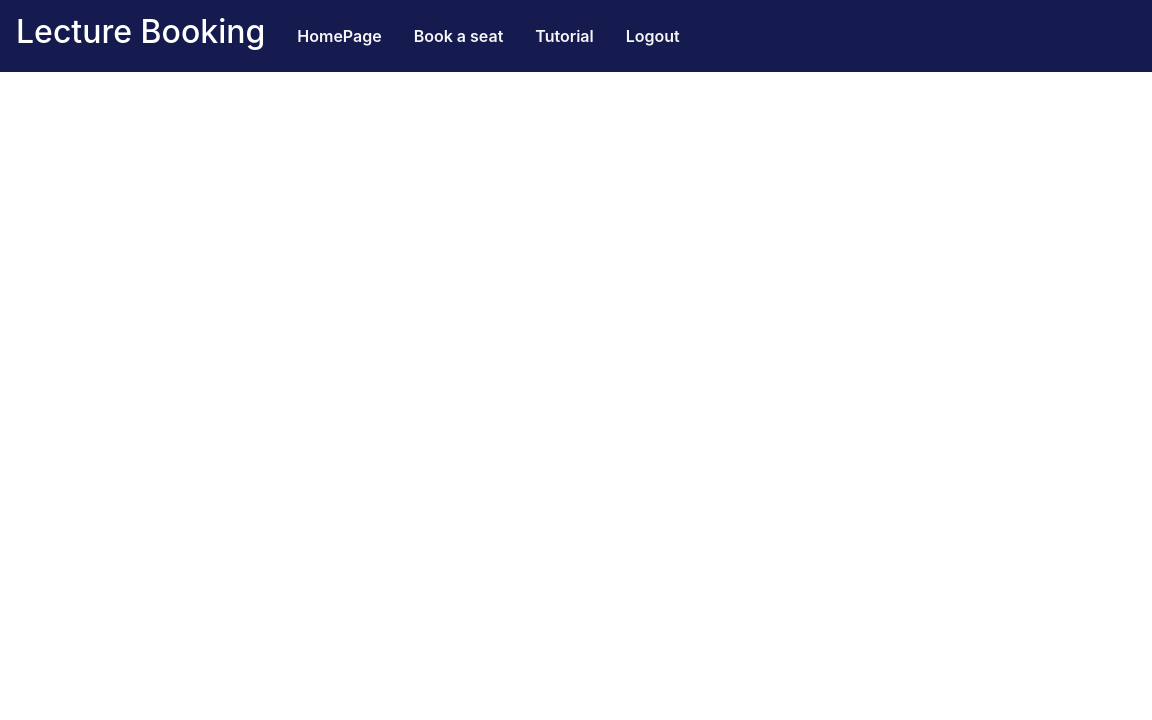
Check Book a Seat
Click the link "Book a seat": x=458, y=36 [414,26,503,46]
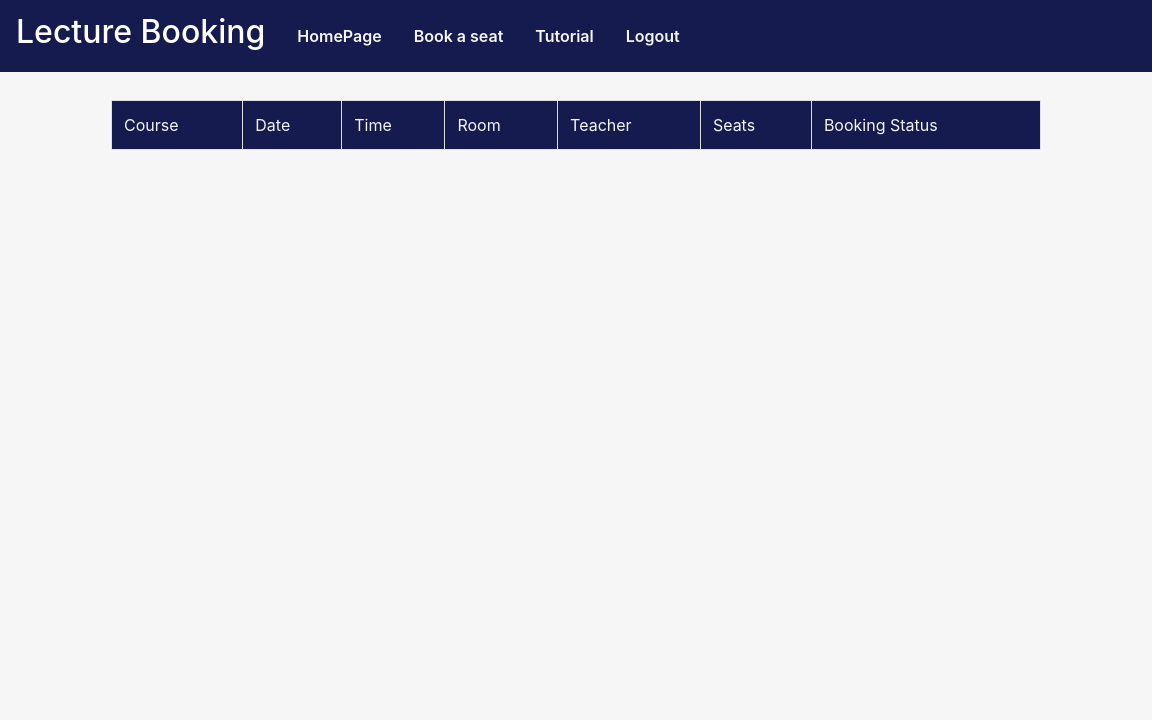
Expected: the text "Course" is shown, [112,101,243,150]
Expected: the text "Date" is shown, [243,101,342,150]
Expected: the text "Time" is shown, [342,101,445,150]
